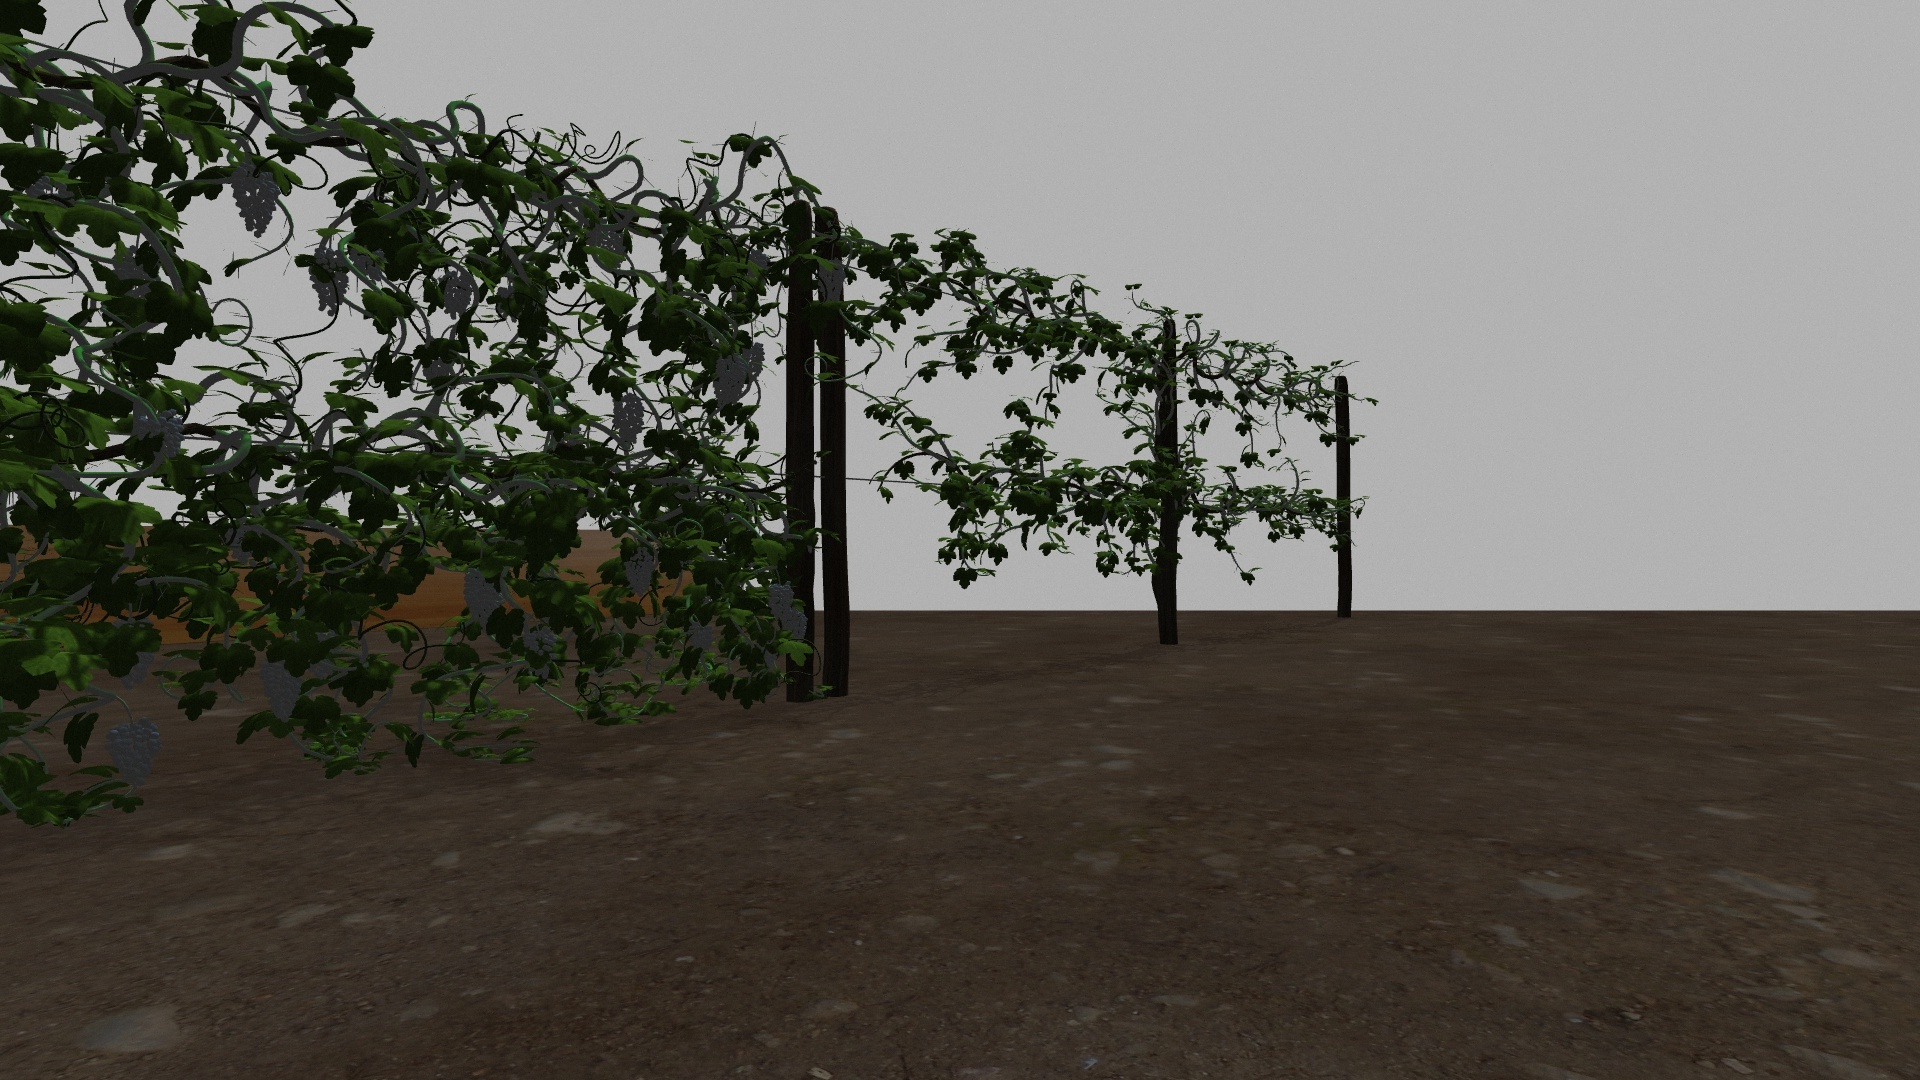grape: (102, 715, 161, 790), (231, 164, 280, 237), (258, 653, 305, 727), (133, 407, 187, 459), (462, 567, 504, 632), (310, 247, 349, 315), (521, 622, 555, 679), (436, 274, 477, 320), (611, 392, 645, 446), (709, 355, 744, 407), (622, 549, 654, 597), (587, 223, 626, 261), (816, 262, 848, 301), (738, 343, 767, 378), (766, 583, 795, 618), (779, 609, 808, 644), (688, 622, 715, 651)
